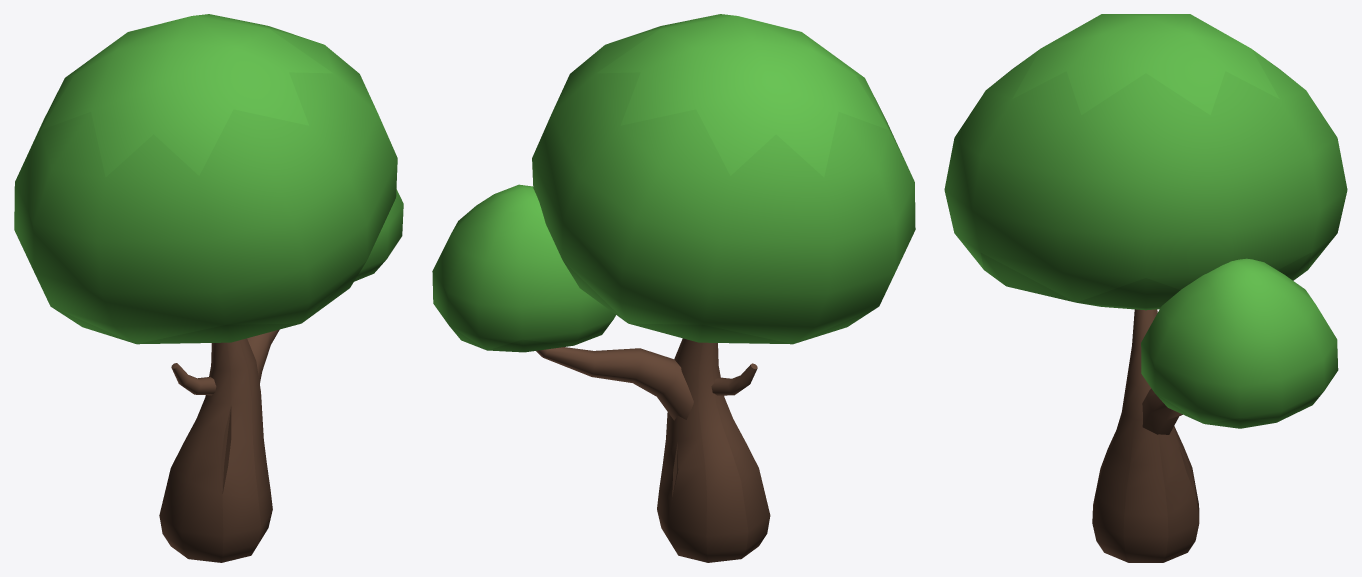
File: tree_broadleaf_2.glb
3 views of the same model, side by side, from view 1: azimuth 30°, elevation 25°; view 2: azimuth 150°, elevation 25°; view 3: azimuth 270°, elevation 25° (orthographic).
Parts seen in each view (by area): view 1: tree_broadleaf_2; view 2: tree_broadleaf_2; view 3: tree_broadleaf_2.
Boxes of the visible parts, x1,y1,x2,y2 form: tree_broadleaf_2: (14,14,403,562); tree_broadleaf_2: (432,14,915,562); tree_broadleaf_2: (944,14,1347,562).
Bounding box in the file's own units: 6.91 × 8.5 × 5.94.
